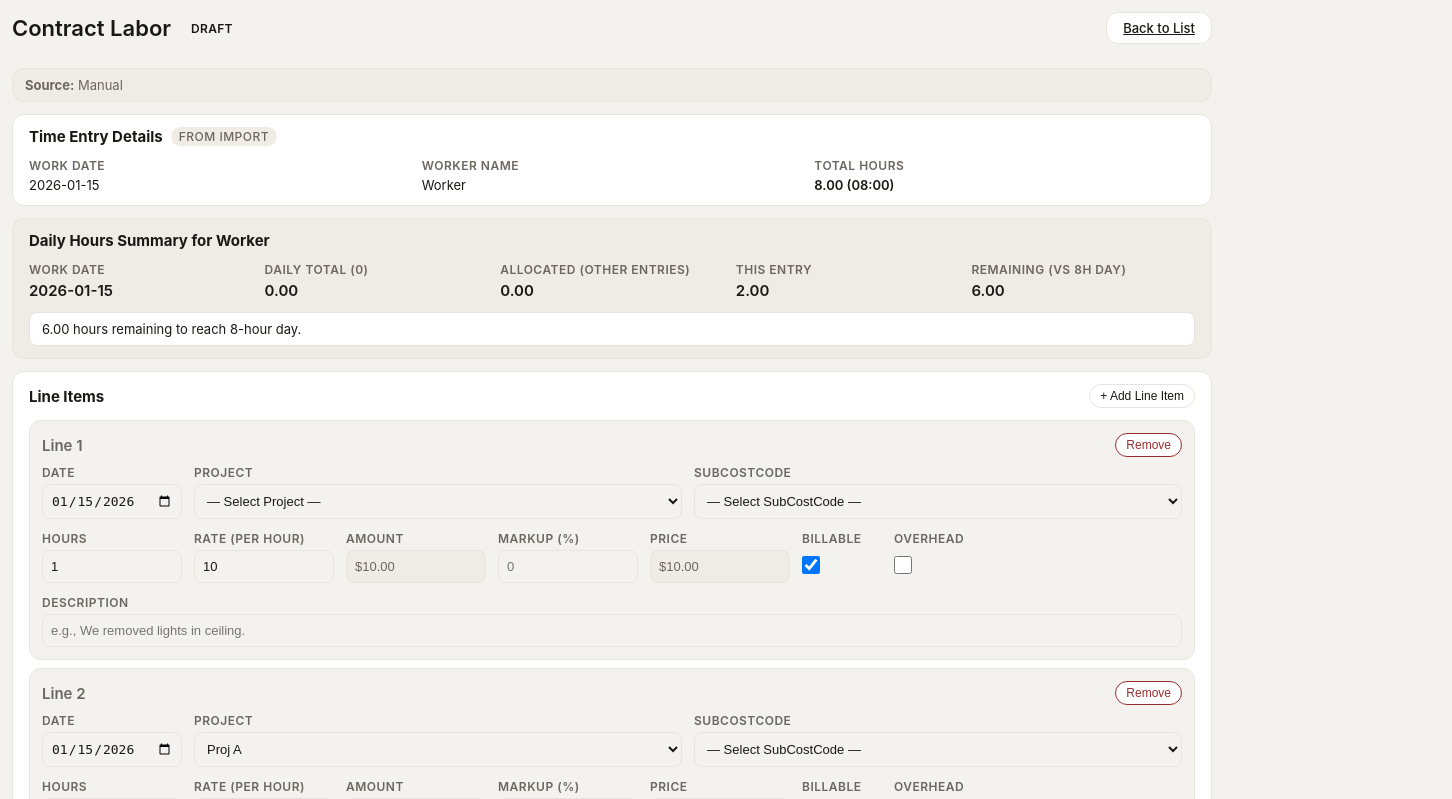
ContractLaborEdit line uid identity (U-683c) › remove-before-resolve: effective rate patches the row that still matches, not by index
Select "Proj A" in the 3rd dropdown at [438, 750], box [194,732,682,767]
Click the 1st button with class "btn-danger" at [1149, 445], box [1115,433,1182,457]
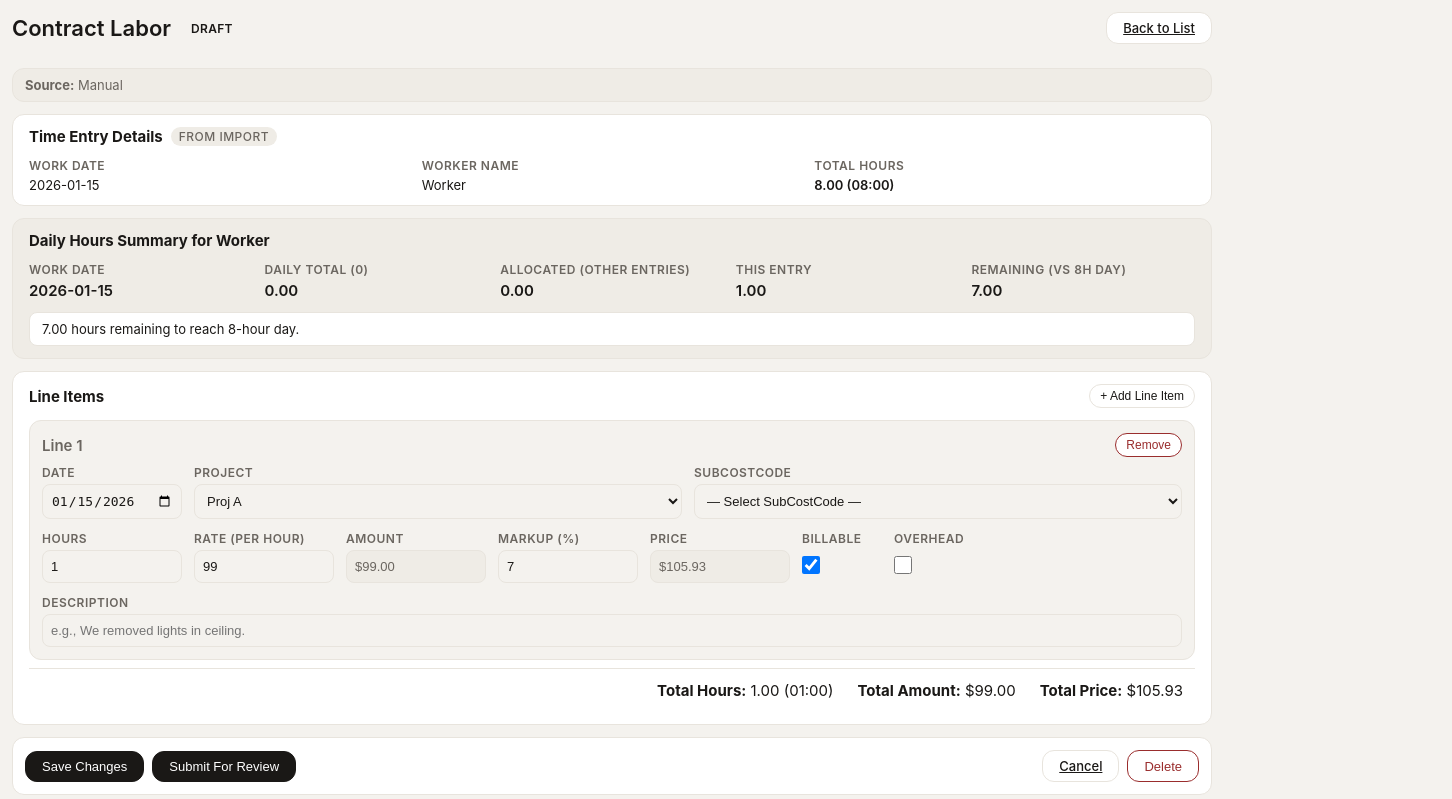
Result: the number field below "Rate (per hour)" holds "99" at [194,550,334,583]
Result: the number field below "Markup (%)" holds "7" at [498,550,638,583]
